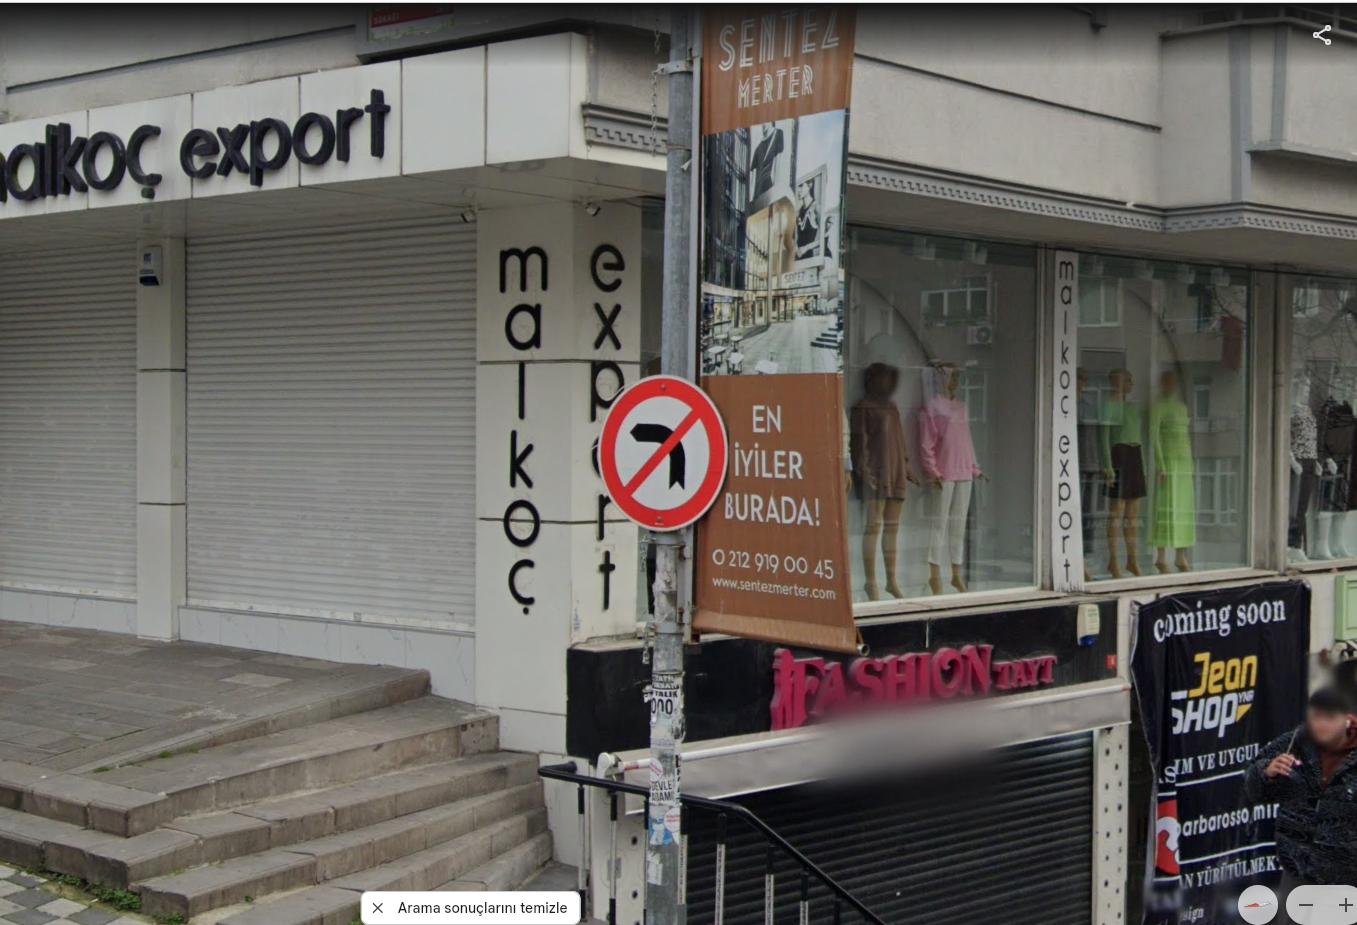leftturnsareforbidden: (604, 383, 729, 528)
